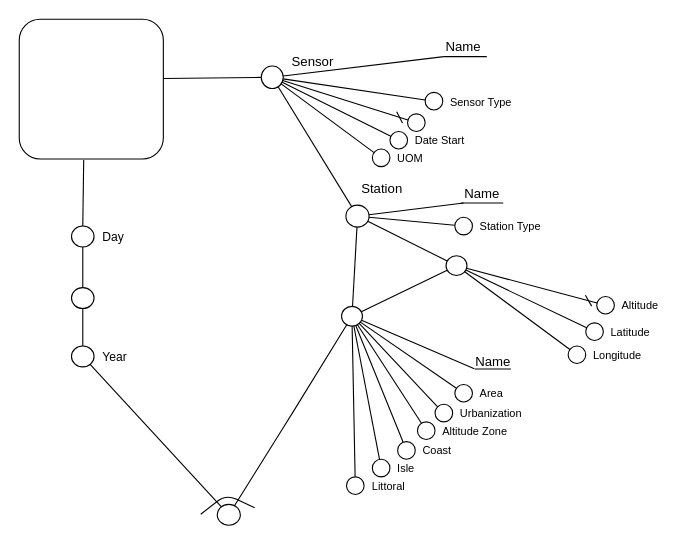
Some shapes in this 678 by 545 pixel diagram are drawn without their labels. Here are the shapes that lost their labels. From the top down, the box of each, then its label:
(18, 18, 163, 159): Weather/Air Sample Mean Value Min Value Max Value Std Dev
(406, 113, 425, 131): Date End
(445, 255, 467, 276): Location
(70, 287, 94, 309): Month
(340, 305, 362, 326): Municipality
(216, 503, 240, 525): Population
